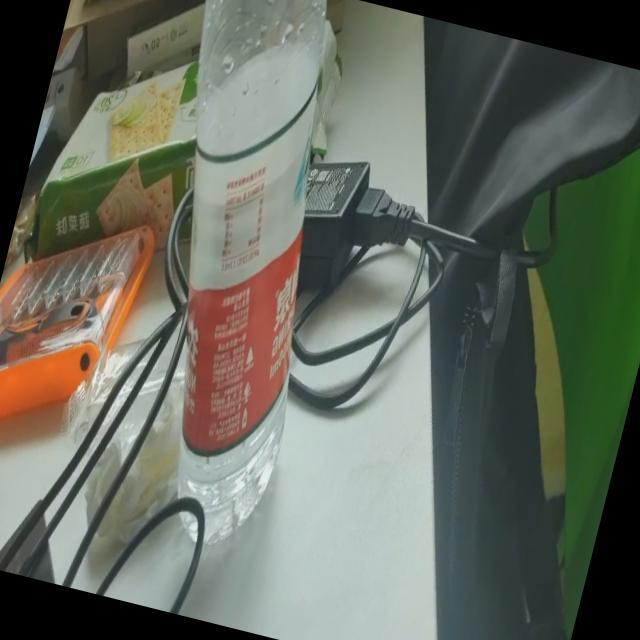good: (67, 0, 395, 561)
